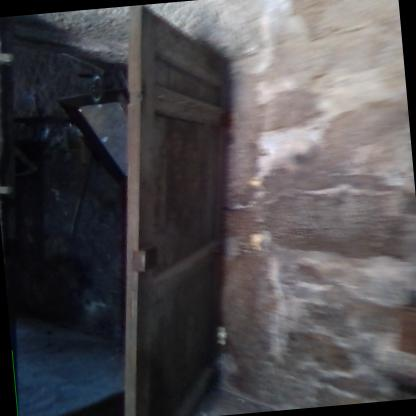semi: (0, 12, 288, 415)
